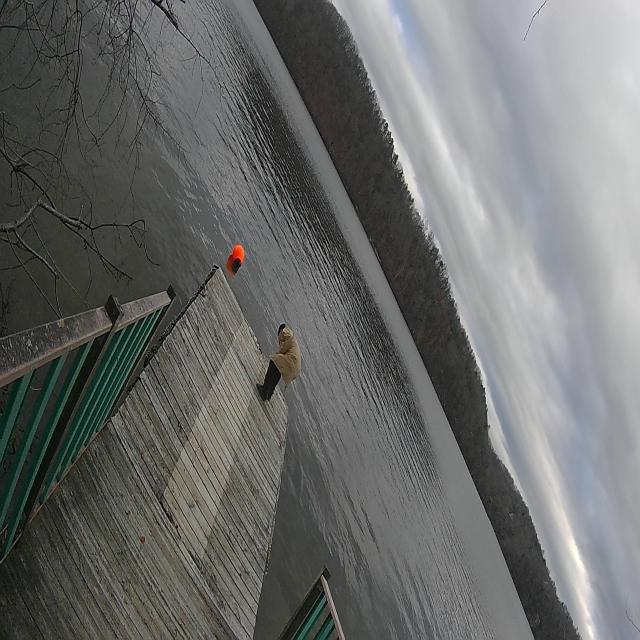Buoy: (222, 225, 254, 288)
